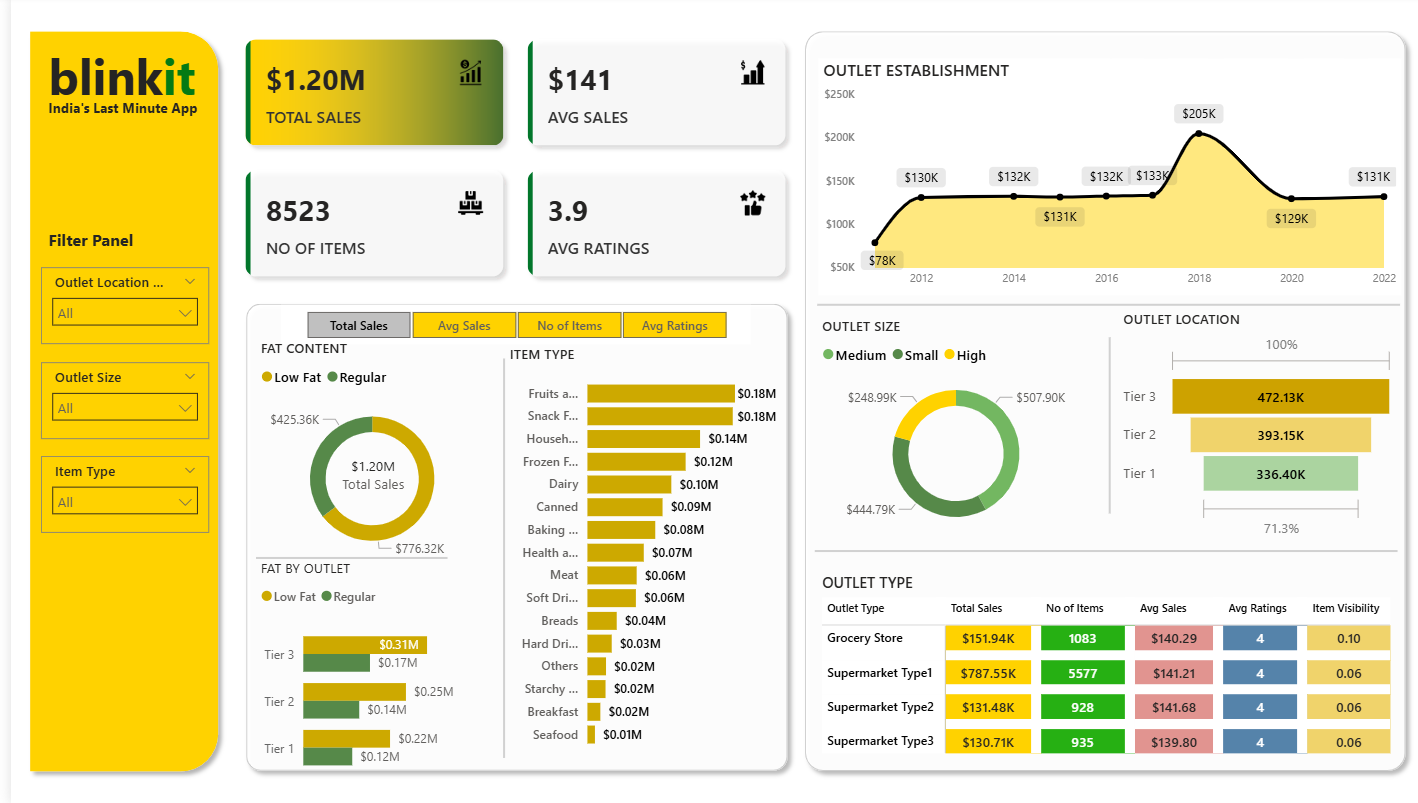

What the dashboard file says about the page in this screenshot:
{"tool":"powerbi","page":{"name":"Page 1","canvas":[1400,800],"ordinal":0},"visuals":[{"type":"shape","box":[10.5,25.5,204.1,750.4],"z":0},{"type":"textbox","box":[32.7,40.9,170.4,80.4],"z":1000},{"type":"textbox","box":[32.7,96.8,170.4,34.1],"z":2000},{"type":"cardVisual","fields":{"Data":["BlinkIT Grocery Data.Total Sales","BlinkIT Grocery Data.Avg Sales","BlinkIT Grocery Data.No of Items","BlinkIT Grocery Data.Avg Ratings"]},"box":[215.4,25.9,569.9,269.9],"z":3000},{"type":"shape","box":[223.6,295.8,553.5,479.9],"z":4000},{"type":"slicer","fields":{"Values":["Metrics.Metrics"]},"box":[267.2,305.4,464.9,39.5],"z":5000},{"type":"donutChart","title":"FAT CONTENT","fields":{"Y":["BlinkIT Grocery Data.Total Sales"],"Category":["BlinkIT Grocery Data.Item Fat Content"]},"box":[242.7,339.5,230.4,230.4],"z":6000},{"type":"cardVisual","fields":{"Data":["BlinkIT Grocery Data.Total Sales"]},"box":[302.7,439,111.8,61.4],"z":7000},{"type":"clusteredBarChart","title":"FAT BY OUTLET","fields":{"Y":["BlinkIT Grocery Data.Total Sales"],"Category":["BlinkIT Grocery Data.Outlet Location Type"],"Series":["BlinkIT Grocery Data.Item Fat Content"]},"box":[242.7,556.2,219.5,230.4],"z":8000},{"type":"shape","box":[242.7,541.2,189.5,28.6],"z":9000},{"type":"shape","box":[474.4,358.6,25.9,395.4],"z":10000},{"type":"clusteredBarChart","title":"ITEM TYPE","fields":{"Y":["BlinkIT Grocery Data.Total Sales"],"Category":["BlinkIT Grocery Data.Item Type"]},"box":[488.1,344.9,274,409],"z":11000},{"type":"shape","box":[777.1,25.9,612.1,749.8],"z":12000},{"type":"lineChart","title":"OUTLET ESTABLISHMENT","fields":{"Y":["BlinkIT Grocery Data.Total Sales"],"Category":["BlinkIT Grocery Data.Outlet Establishment Year"]},"box":[798.9,61.4,576.7,234.5],"z":13000},{"type":"shape","box":[797.6,291.8,576.7,27.3],"z":14000},{"type":"donutChart","title":"OUTLET SIZE","fields":{"Y":["BlinkIT Grocery Data.Total Sales"],"Category":["BlinkIT Grocery Data.Outlet Size"]},"box":[797.6,316.3,275,225],"z":15000},{"type":"shape","box":[1081.1,338.1,12.3,174.5],"z":16000},{"type":"funnel","title":"OUTLET LOCATION","fields":{"Y":["Sum(BlinkIT Grocery Data.Sales)"],"Category":["BlinkIT Grocery Data.Outlet Location Type"]},"box":[1096.1,310.8,278.1,230.4],"z":17000},{"type":"shape","box":[794.8,535.8,576.7,27.3],"z":18000},{"type":"pivotTable","title":"OUTLET TYPE","fields":{"Rows":["BlinkIT Grocery Data.Outlet Type"],"Values":["BlinkIT Grocery Data.Total Sales","BlinkIT Grocery Data.No of Items","BlinkIT Grocery Data.Avg Sales","BlinkIT Grocery Data.Avg Ratings","Avg(BlinkIT Grocery Data.Item Visibility)"]},"box":[797.6,569.9,574,212.7],"z":19000},{"type":"slicer","fields":{"Values":["BlinkIT Grocery Data.Outlet Size"]},"box":[30,362.6,166.3,76.3],"z":20000},{"type":"slicer","fields":{"Values":["BlinkIT Grocery Data.Outlet Location Type"]},"box":[30,268.6,166.3,76.3],"z":21000},{"type":"slicer","fields":{"Values":["BlinkIT Grocery Data.Item Type"]},"box":[30,455.4,166.3,76.3],"z":22000},{"type":"textbox","box":[32.7,225,170.4,34.1],"z":23000}]}

Visuals, with their boxes in screenshot pixels (x1, y1, x2, y2), scaled from the page's 1400x800 canvas onto the 1418x803 screenshot:
shape: Rect(11, 26, 217, 779)
textbox: Rect(33, 41, 206, 122)
textbox: Rect(33, 97, 206, 131)
cardVisual - BlinkIT Grocery Data.Total Sales x BlinkIT Grocery Data.Avg Sales: Rect(218, 26, 795, 297)
shape: Rect(226, 297, 787, 779)
slicer - Metrics.Metrics: Rect(271, 307, 742, 346)
"FAT CONTENT" donutChart: Rect(246, 341, 479, 572)
cardVisual - BlinkIT Grocery Data.Total Sales: Rect(307, 441, 420, 502)
"FAT BY OUTLET" clusteredBarChart: Rect(246, 558, 468, 790)
shape: Rect(246, 543, 438, 572)
shape: Rect(480, 360, 507, 757)
"ITEM TYPE" clusteredBarChart: Rect(494, 346, 772, 757)
shape: Rect(787, 26, 1407, 779)
"OUTLET ESTABLISHMENT" lineChart: Rect(809, 62, 1393, 297)
shape: Rect(808, 293, 1392, 320)
"OUTLET SIZE" donutChart: Rect(808, 317, 1086, 543)
shape: Rect(1095, 339, 1107, 515)
"OUTLET LOCATION" funnel: Rect(1110, 312, 1392, 543)
shape: Rect(805, 538, 1389, 565)
"OUTLET TYPE" pivotTable: Rect(808, 572, 1389, 786)
slicer - BlinkIT Grocery Data.Outlet Size: Rect(30, 364, 199, 441)
slicer - BlinkIT Grocery Data.Outlet Location Type: Rect(30, 270, 199, 346)
slicer - BlinkIT Grocery Data.Item Type: Rect(30, 457, 199, 534)
textbox: Rect(33, 226, 206, 260)
